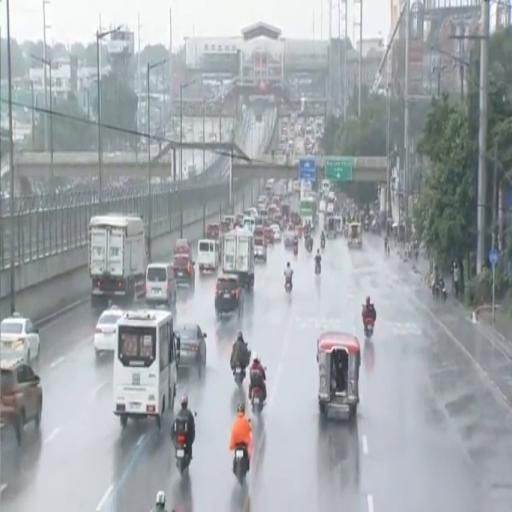bus: (113, 310, 179, 428)
car: (0, 359, 42, 444), (0, 313, 40, 362), (175, 324, 206, 376), (94, 307, 122, 356), (215, 274, 244, 318), (173, 254, 194, 289), (174, 239, 192, 256), (283, 228, 296, 248), (271, 224, 281, 242)
motorcycle: (234, 444, 248, 485), (176, 434, 190, 475), (252, 387, 263, 414), (233, 365, 245, 386), (364, 317, 374, 338), (439, 283, 447, 301), (432, 282, 440, 299), (285, 278, 292, 292), (306, 237, 312, 252), (315, 261, 320, 274), (364, 219, 369, 231), (293, 243, 297, 255), (321, 238, 325, 249)
truck: (89, 214, 147, 309), (222, 228, 254, 290), (299, 197, 317, 227)
